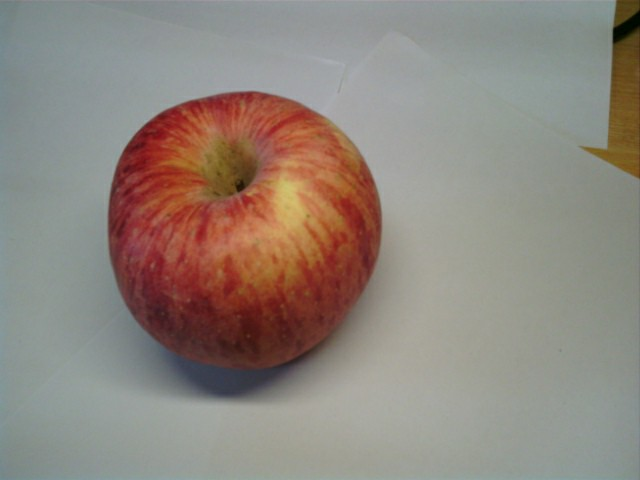normal_apple: (108, 89, 387, 375)
